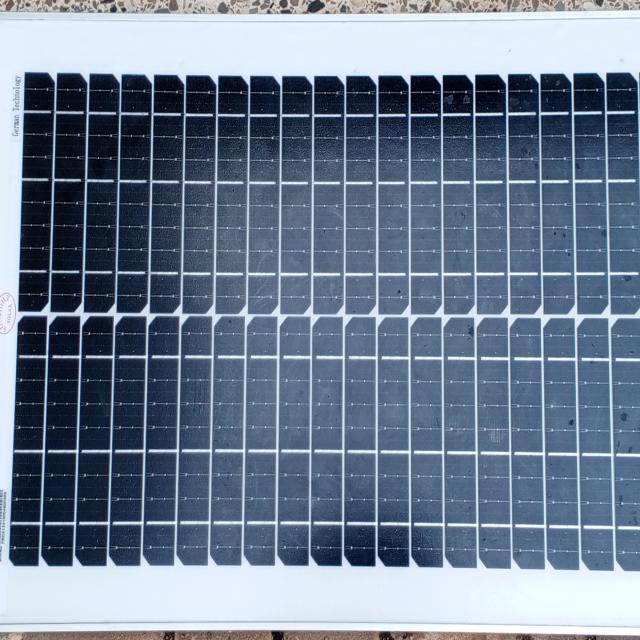Clean: (4, 34, 640, 613)
